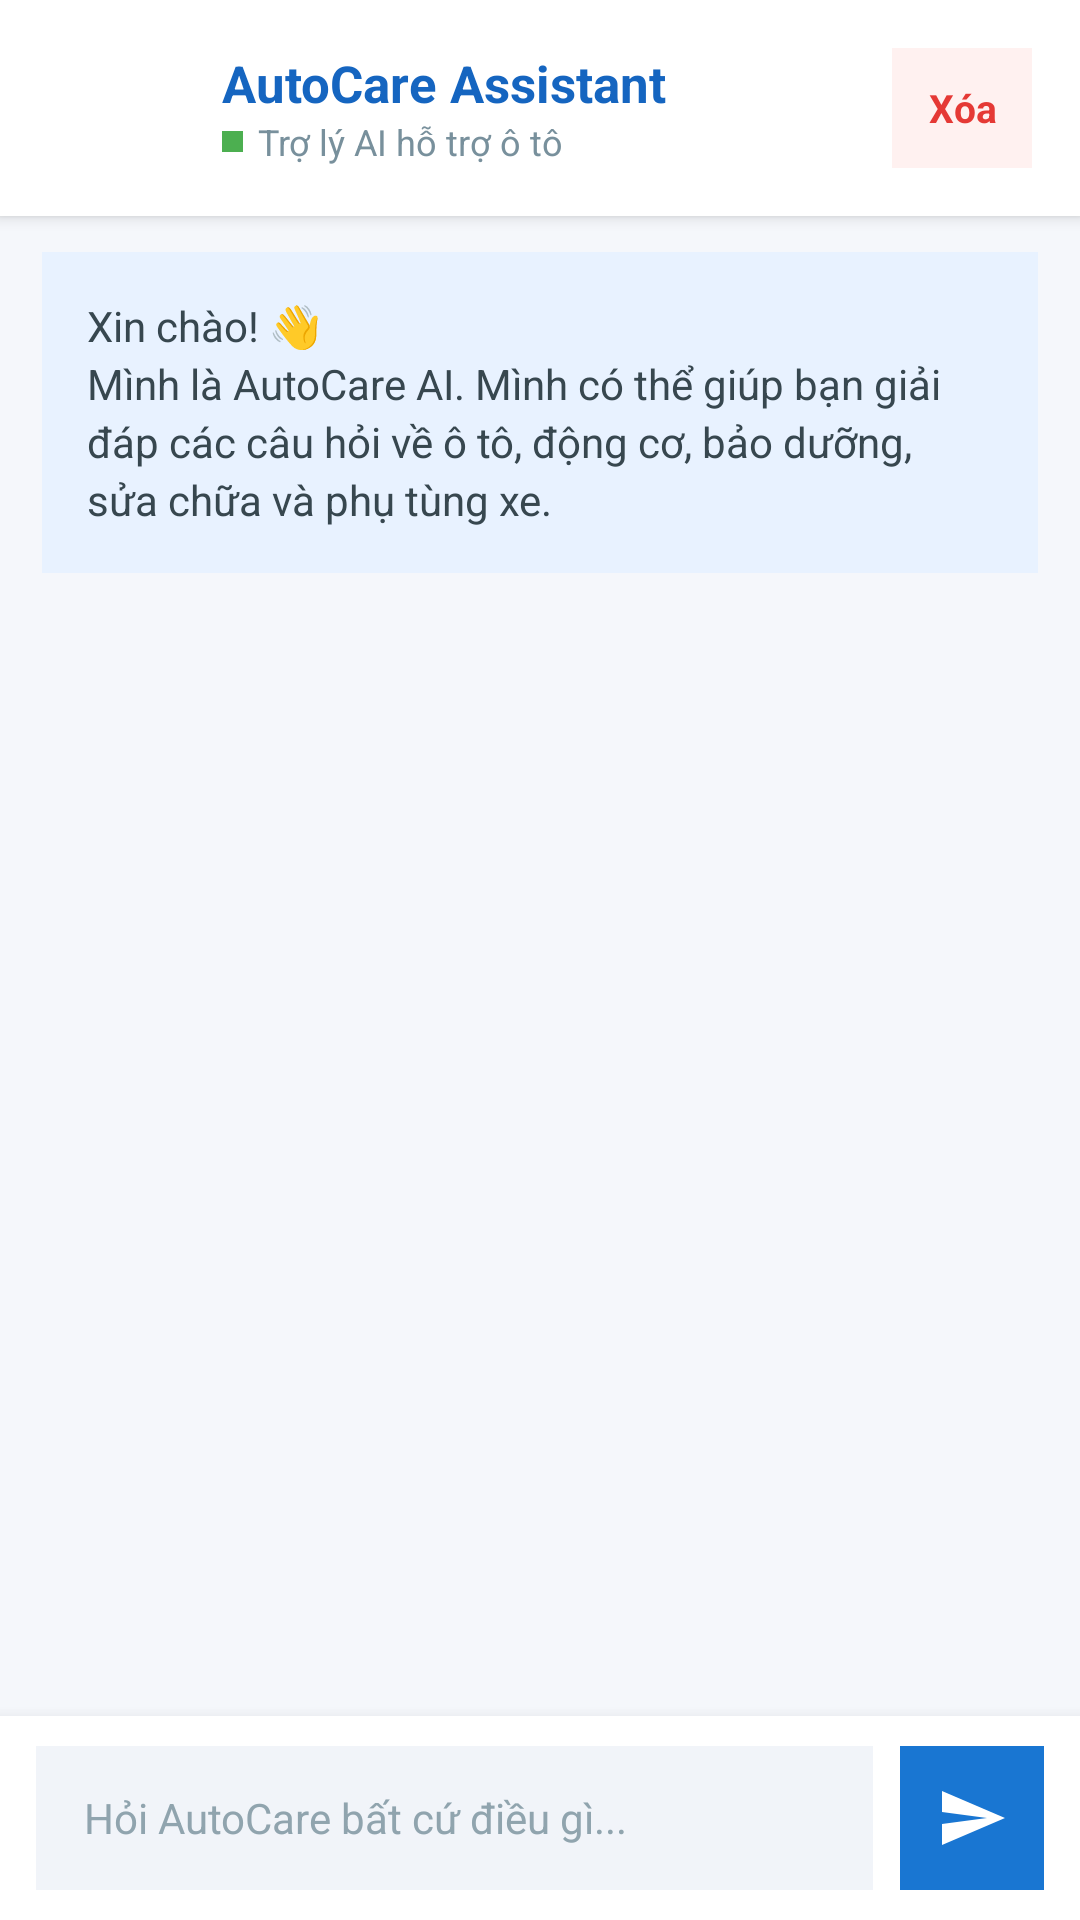

Locate icon controls on the screen. Image size 1080×1920, boxes as bbox=(x1, y1, x2, y2).
Gửi tin nhắn: bbox=(900, 1746, 1044, 1890)
